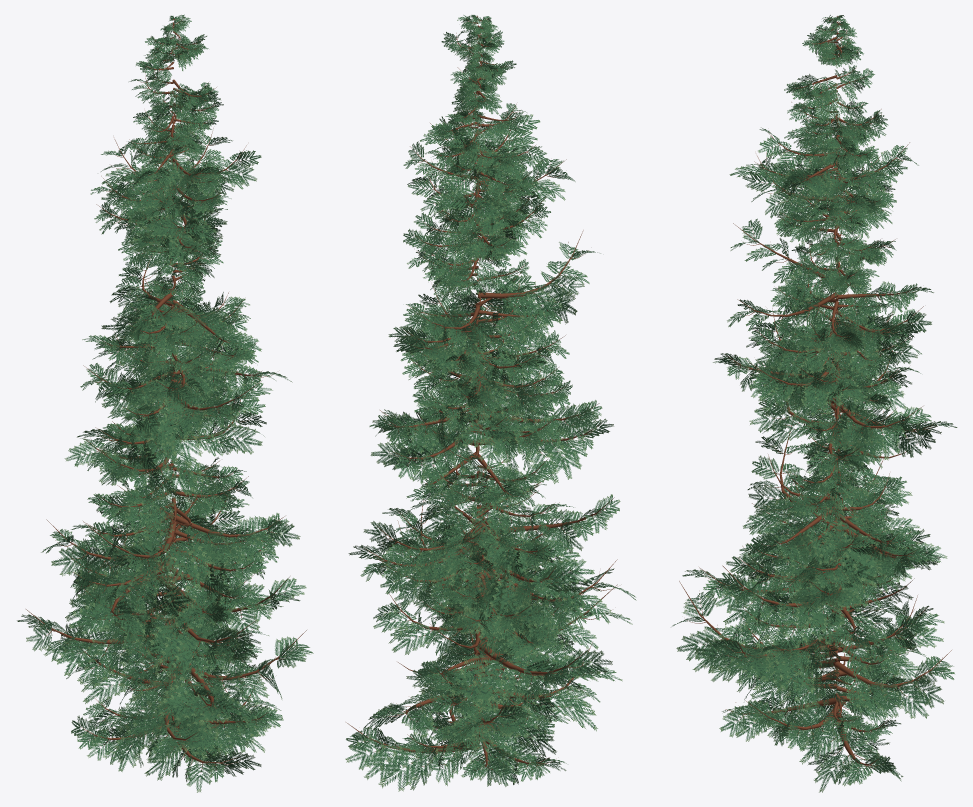
Rendered from forest-giant-lod0.glb.
3 renders of one model, left to right at view 1: azimuth 30°, elevation 25°; view 2: azimuth 150°, elevation 25°; view 3: azimuth 270°, elevation 25°, orthographic. The views are drawn at different scales.
Parts seen in each view (by area): view 1: redwood-crown; view 2: redwood-crown; view 3: redwood-crown.
Boxes of the visible parts, x1=… form: redwood-crown: x1=17, y1=14, x2=313, y2=792; redwood-crown: x1=345, y1=15, x2=636, y2=791; redwood-crown: x1=672, y1=15, x2=957, y2=792.
Bounding box in the file's own units: 21.9 × 61.26 × 21.78.
7 materials, 3 textured.
